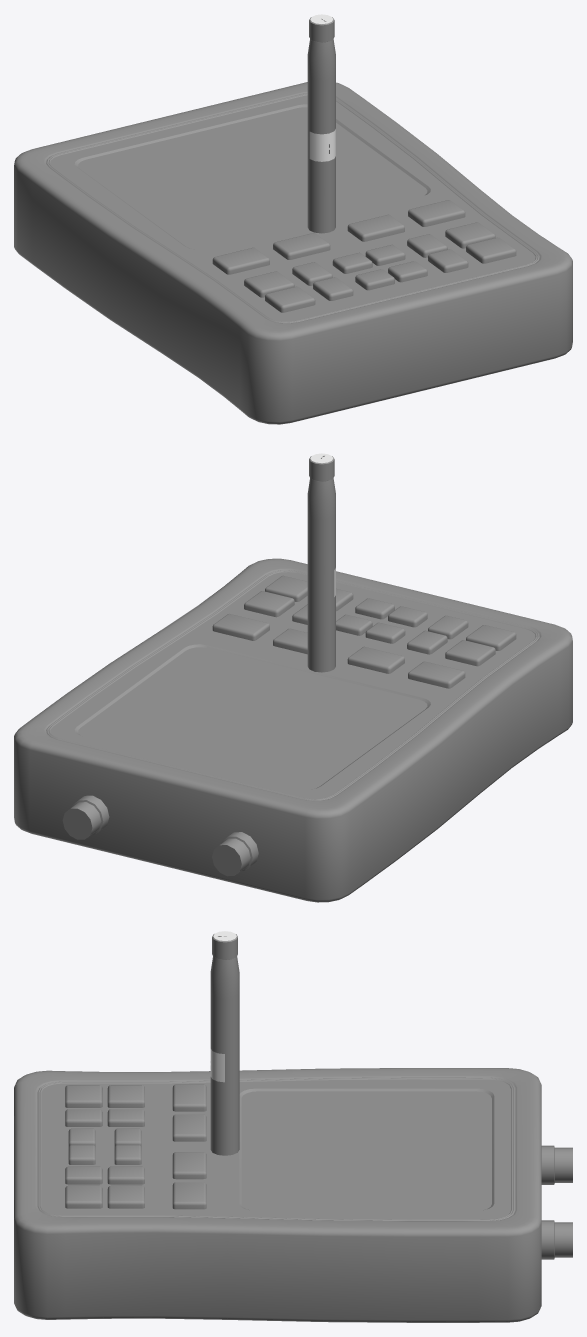
Rendered from YQ_ShiBoQi_v1.FBX.
3 renders of one model, top to bottom at view 1: azimuth 30°, elevation 25°; view 2: azimuth 150°, elevation 25°; view 3: azimuth 270°, elevation 25°, orthographic. The views are drawn at different scales.
Parts seen in each view (by area): view 1: ShiBoQI_001, ShiBoQI_AnNiu_003, ShiBoQI_GaoYa_TanTou, ShiBoQI_AnNiu_001, ShiBoQI_AnNiu_002; view 2: ShiBoQI_001, ShiBoQI_AnNiu_003, ShiBoQI_GaoYa_TanTou, ShiBoQI_JieXianKong_001, ShiBoQI_AnNiu_001, ShiBoQI_AnNiu_002; view 3: ShiBoQI_001, ShiBoQI_AnNiu_003, ShiBoQI_GaoYa_TanTou, ShiBoQI_JieXianKong_001, ShiBoQI_AnNiu_001, ShiBoQI_AnNiu_002.
Boxes of the visible parts, box(x1,y1,x2,y2) form: ShiBoQI_001: box(14, 82, 572, 424); ShiBoQI_AnNiu_003: box(212, 200, 516, 312); ShiBoQI_GaoYa_TanTou: box(307, 14, 335, 233); ShiBoQI_AnNiu_001: box(273, 233, 330, 259); ShiBoQI_AnNiu_002: box(347, 214, 404, 241); ShiBoQI_001: box(14, 558, 572, 902); ShiBoQI_AnNiu_003: box(212, 575, 516, 688); ShiBoQI_GaoYa_TanTou: box(307, 453, 335, 672); ShiBoQI_JieXianKong_001: box(62, 795, 258, 876); ShiBoQI_AnNiu_001: box(347, 646, 404, 673); ShiBoQI_AnNiu_002: box(273, 628, 307, 654); ShiBoQI_001: box(14, 1068, 541, 1322); ShiBoQI_AnNiu_003: box(65, 1084, 206, 1209); ShiBoQI_GaoYa_TanTou: box(210, 931, 239, 1155); ShiBoQI_JieXianKong_001: box(541, 1145, 572, 1259); ShiBoQI_AnNiu_001: box(172, 1114, 206, 1141); ShiBoQI_AnNiu_002: box(172, 1152, 206, 1179).
Size of the model in its own units: 11.57 by 16.43 by 9.92.
